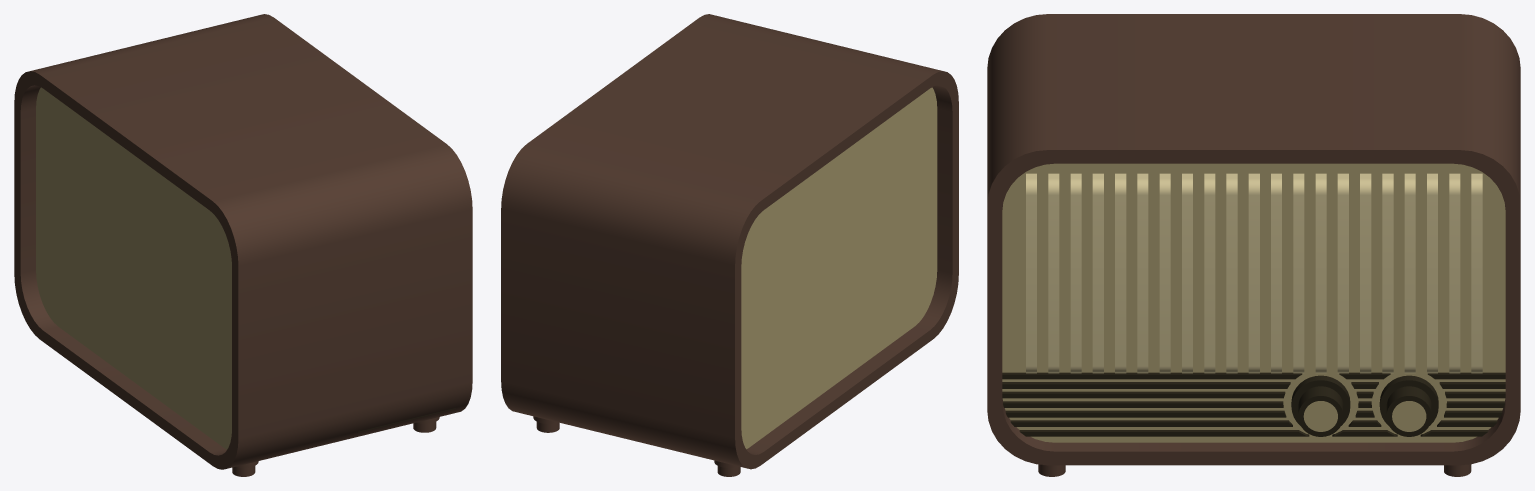
File: radio.fbx
The picture shows the model from 3 angles, left to right: view 1: azimuth 30°, elevation 25°; view 2: azimuth 150°, elevation 25°; view 3: azimuth 270°, elevation 25°; orthographic projection. The views are drawn at different scales.
Visible parts, largest first — view 1: Cube, Cube.001, Cylinder.001; view 2: Cube, Cube.001, Cylinder.001; view 3: Cube, Cube.001, Cube.002, Cube.003, Cylinder, Cylinder.001.
Part boxes in pixels (x1,y1,x2,y2): Cube: [14, 14, 472, 469]; Cube.001: [36, 87, 231, 449]; Cylinder.001: [232, 417, 439, 476]; Cube: [501, 14, 958, 469]; Cube.001: [741, 87, 937, 449]; Cylinder.001: [533, 416, 740, 476]; Cube: [987, 14, 1520, 465]; Cube.001: [1002, 163, 1505, 442]; Cube.002: [1026, 173, 1482, 373]; Cube.003: [1002, 372, 1505, 436]; Cylinder: [1291, 375, 1438, 436]; Cylinder.001: [1038, 464, 1471, 476].
Bounding box in the file's own units: 313 × 344 × 500.
